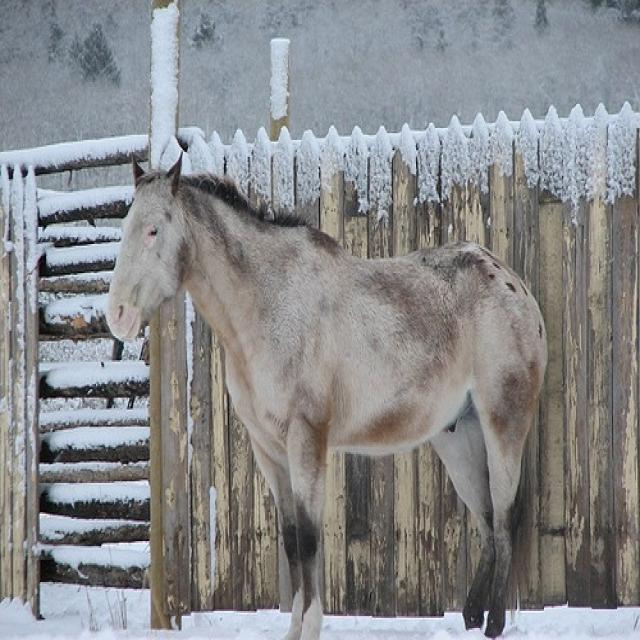horse: (104, 150, 553, 638)
